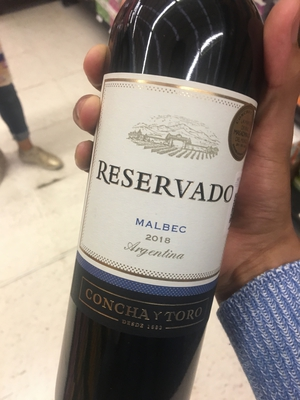reservado malbec: (65, 18, 261, 399)
